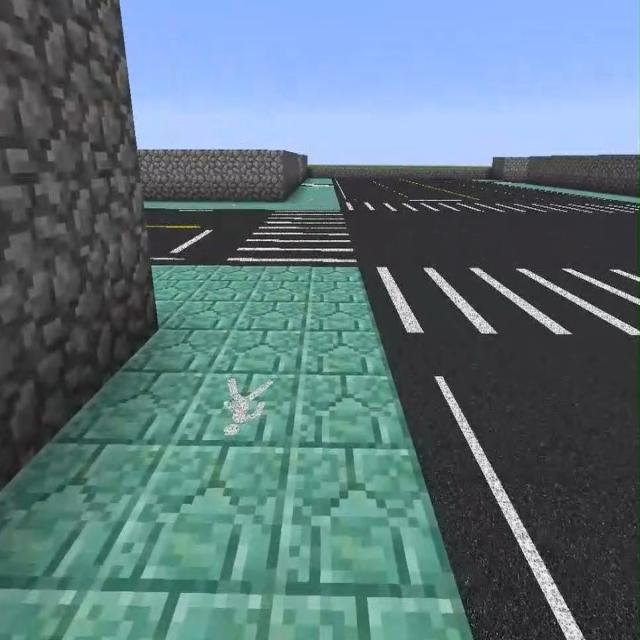8: (360, 267, 639, 336), (227, 210, 357, 260), (343, 199, 639, 213)
crosswalk: (382, 345, 639, 639), (347, 217, 639, 259), (144, 209, 266, 260), (337, 180, 597, 200)
road: (0, 265, 466, 639), (144, 178, 339, 207), (495, 183, 639, 204)
